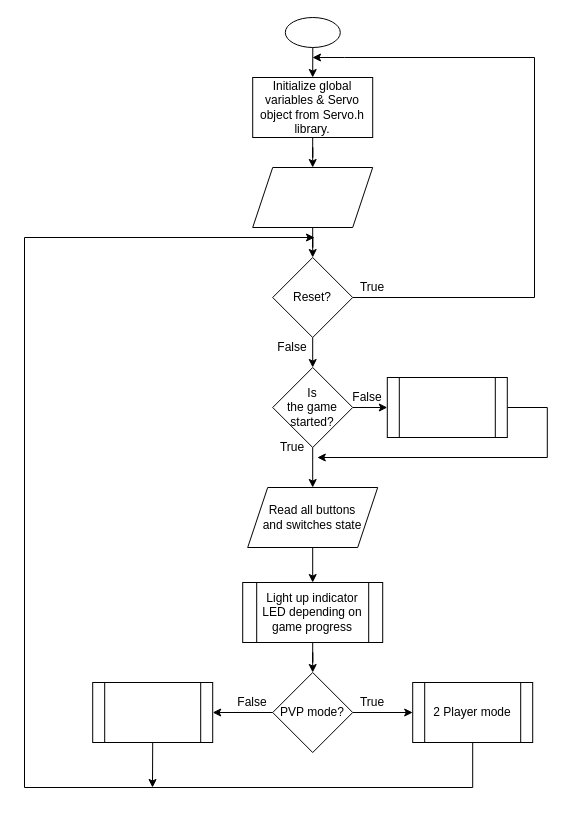
This 573x813 diagram has some shape labels left out. Each missing label, with the centre of its shape:
Game start animation: the point at 446,407
Initialize pin modes and servo initial position: the point at 312,197
Single player mode: the point at 152,712
Start: the point at 312,32
